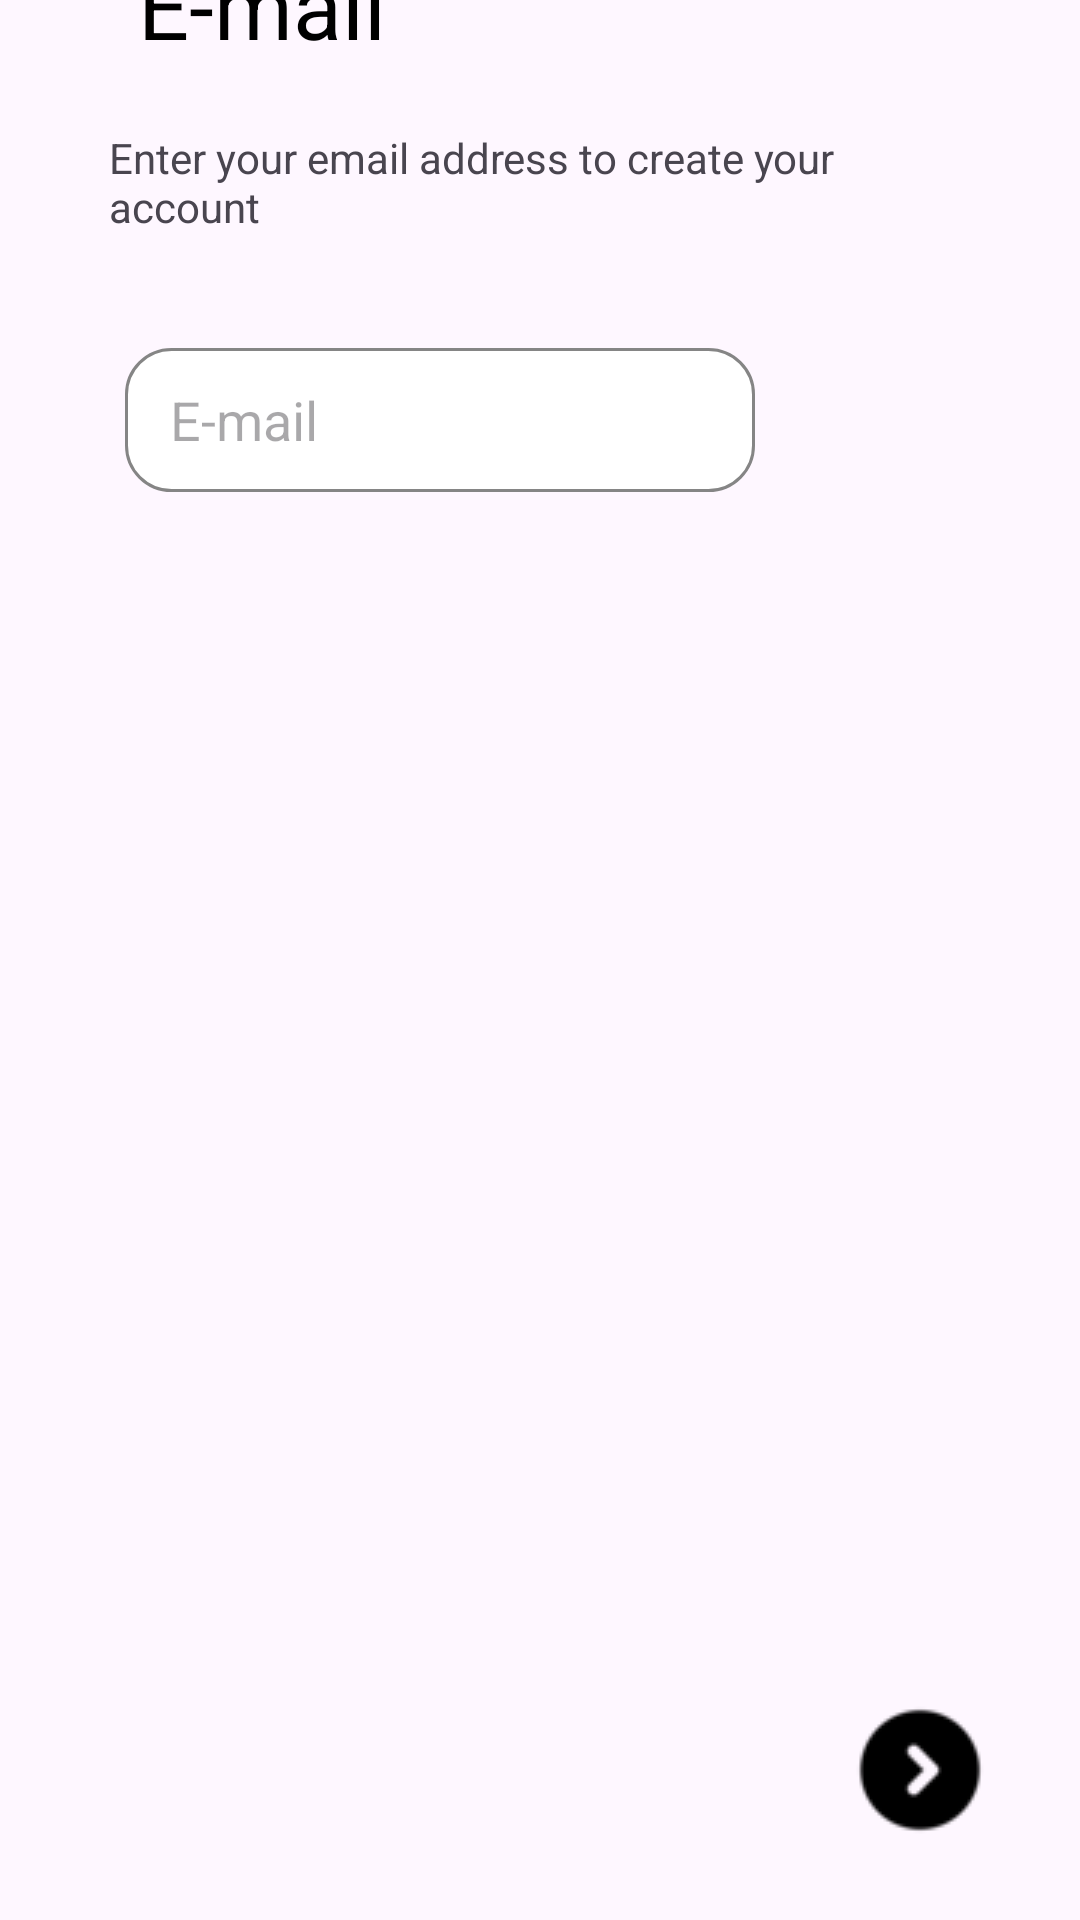

Named icons in this screenshot (1080px×1920px) and their centers, (x,y):
arrow: (920,1770)
